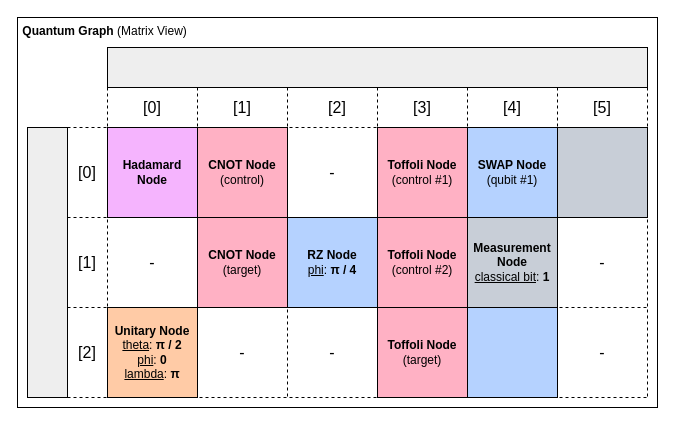
Image size: 675x425. Some labels were removed from this diagram. Each missing label, with the centre of its shape:
"Measurement Node classical bit : 0" goes at [602,172].
"Qubits" goes at [47,262].
"SWAP Node (qubit #2)" goes at [512,352].
"Time steps" goes at [377,67].
